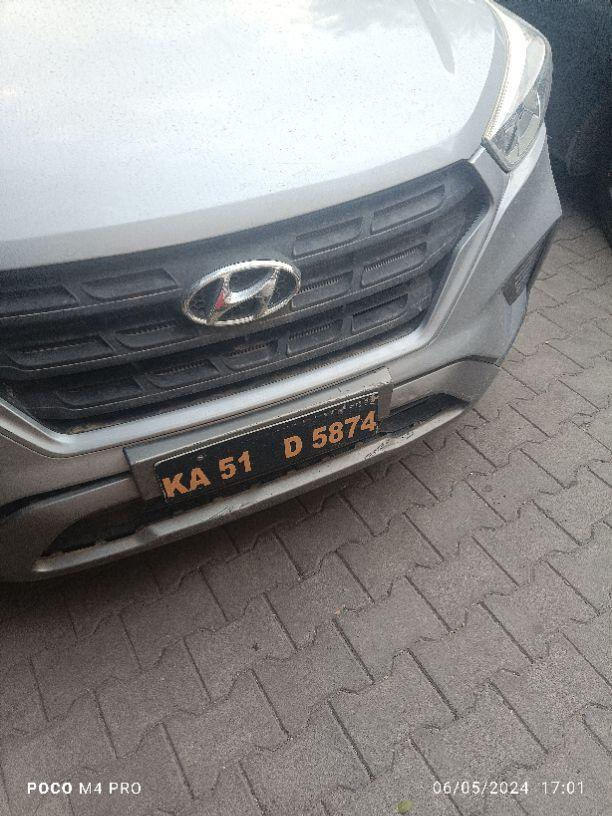license_plate: (128, 365, 394, 520)
